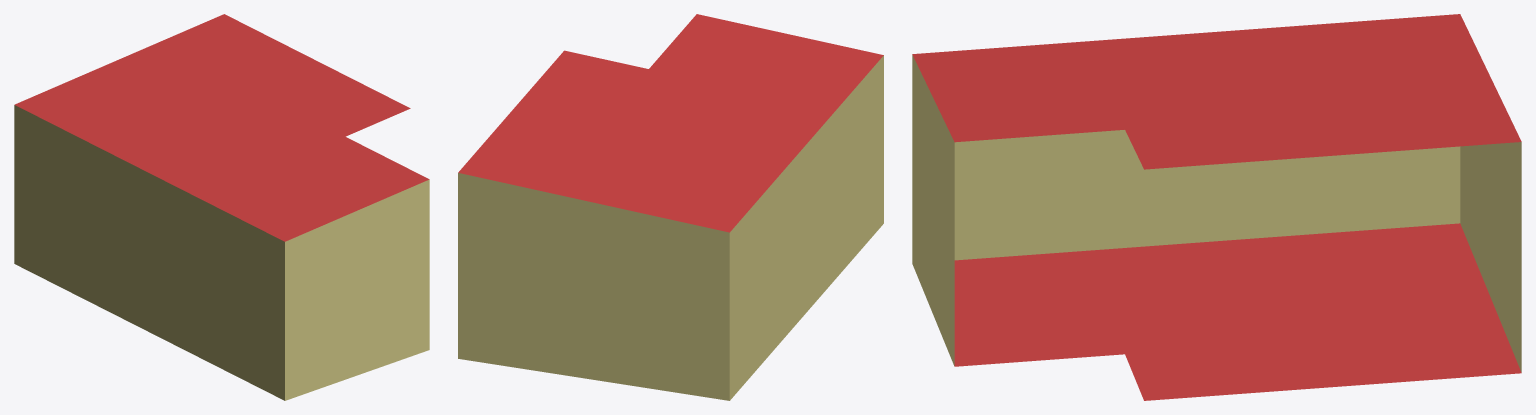
3 renders of one model, left to right at view 1: azimuth 30°, elevation 25°; view 2: azimuth 150°, elevation 25°; view 3: azimuth 270°, elevation 25°, orthographic. The views are drawn at different scales.
Size of the model in its own units: 10.49 by 15.22 by 6.37.
